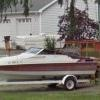Boat: (1, 40, 98, 92)
